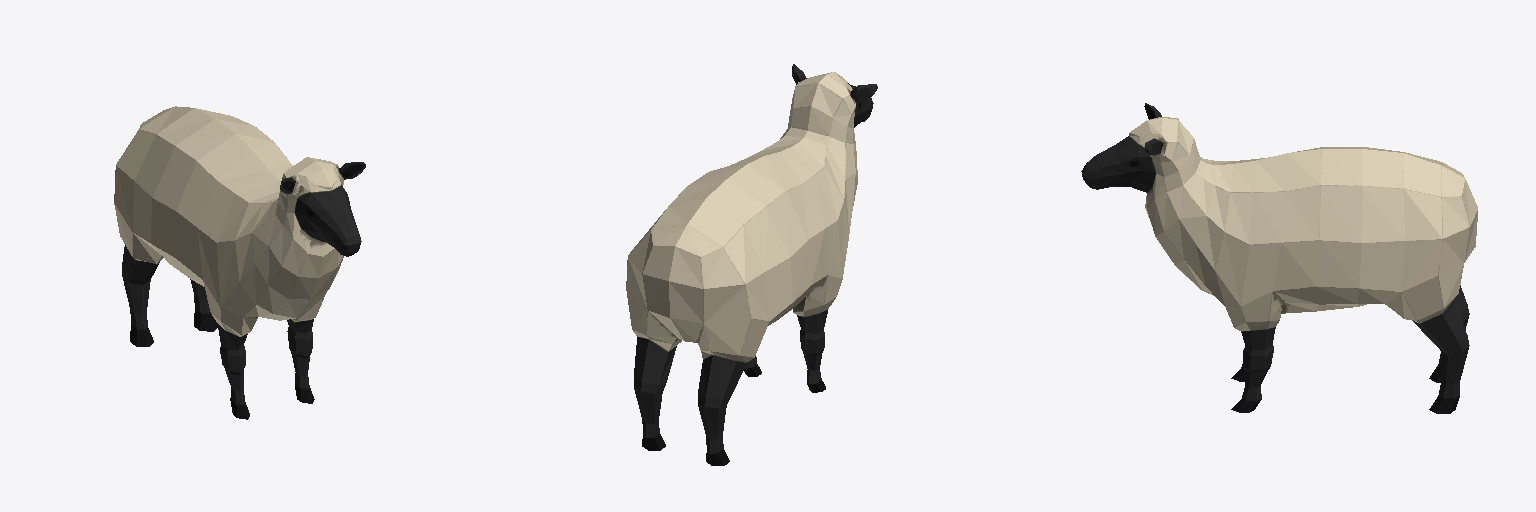
The picture shows the model from 3 angles: view 1: azimuth 30°, elevation 25°; view 2: azimuth 150°, elevation 25°; view 3: azimuth 270°, elevation 25°; orthographic projection.
Visible parts, largest first — view 1: Sheep_mesh; view 2: Sheep_mesh; view 3: Sheep_mesh.
Part boxes in pixels (left/top/right/bottom): Sheep_mesh: left=114, top=106, right=365, bottom=419; Sheep_mesh: left=626, top=64, right=877, bottom=465; Sheep_mesh: left=1081, top=103, right=1477, bottom=413.
Size of the model in its own units: 2.46 by 4.93 by 6.42.
1 materials, 1 textured.